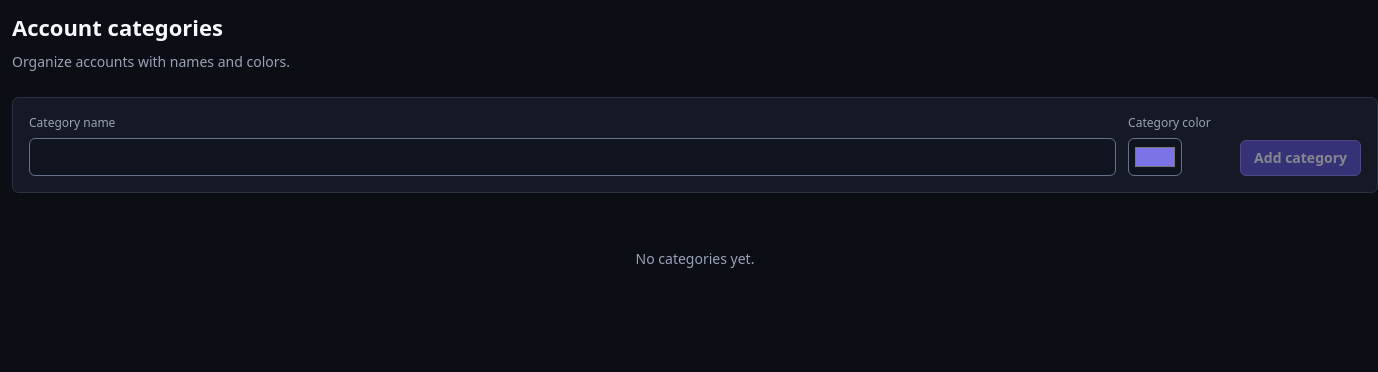
Test case: category form › blocks duplicate submits and edits while saving keeps the draft
Later steps or results of the test are not shown.
Type "Work" into the field labelled "Category name". click: (573, 157)
box: [29, 138, 1116, 176]
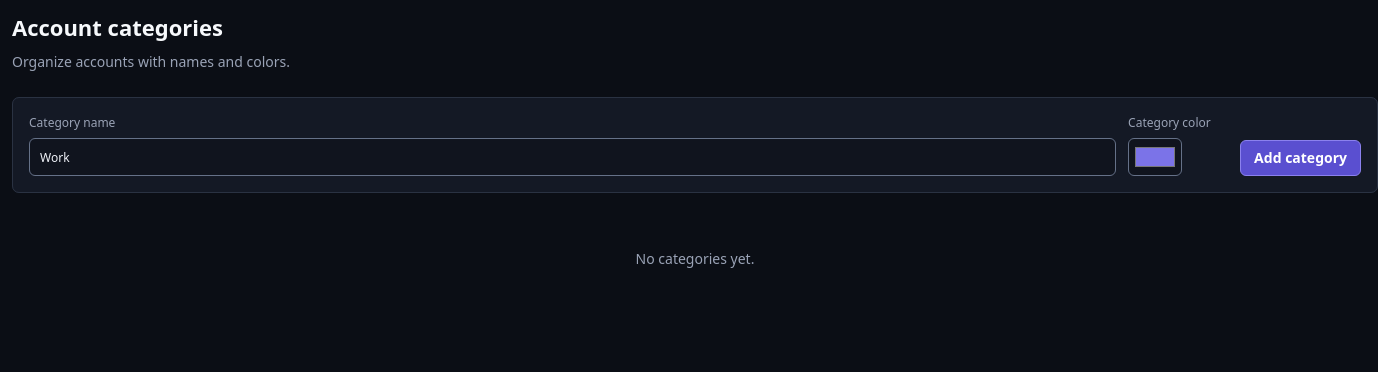
Click the button "Add category". click: (1301, 158)
box: [1240, 140, 1361, 176]
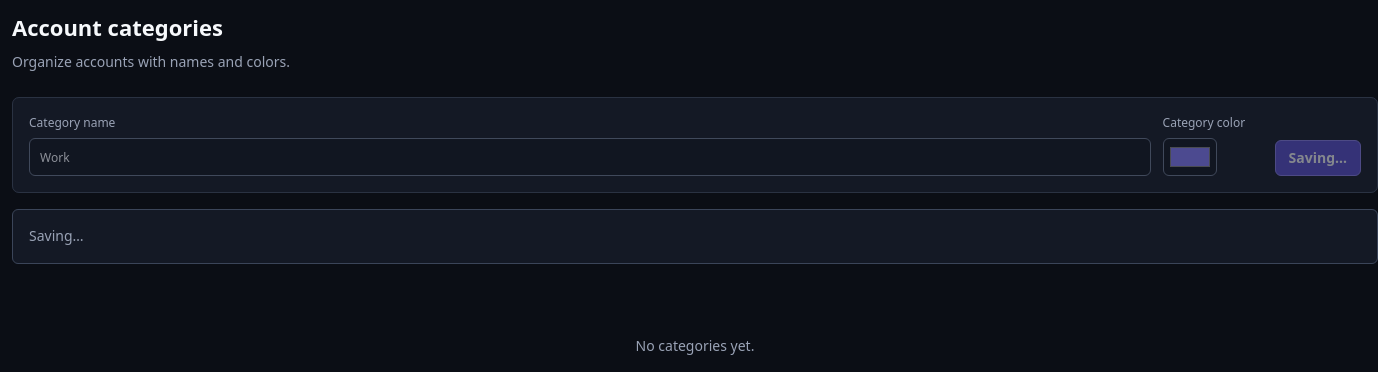
Click the button named "Add category". click: (1318, 158)
box: [1275, 140, 1361, 176]
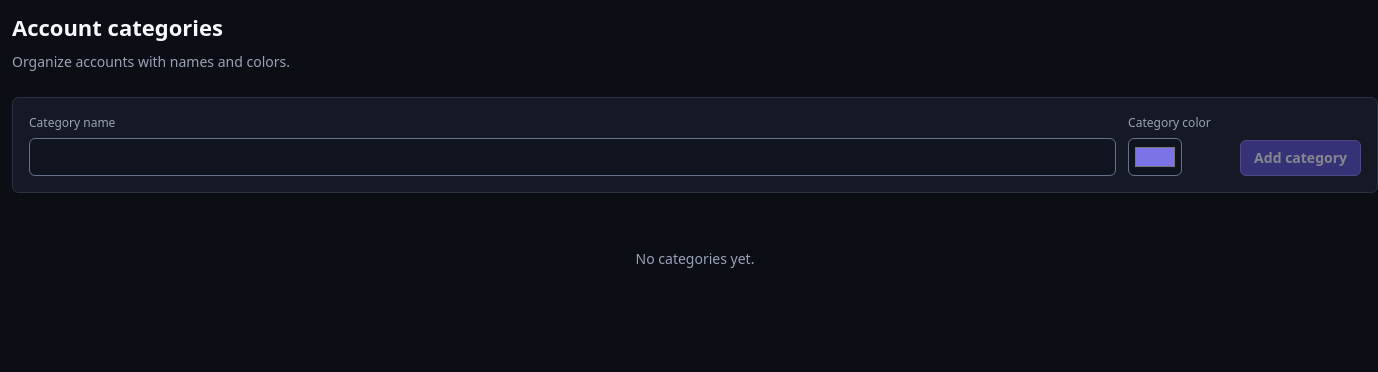
Expected: the field labelled "Category name" is enabled, [29, 138, 1116, 176]
Expected: the button "Add category" is disabled, [1240, 140, 1361, 176]
Expected: the field labelled "Category name" is empty, [29, 138, 1116, 176]
